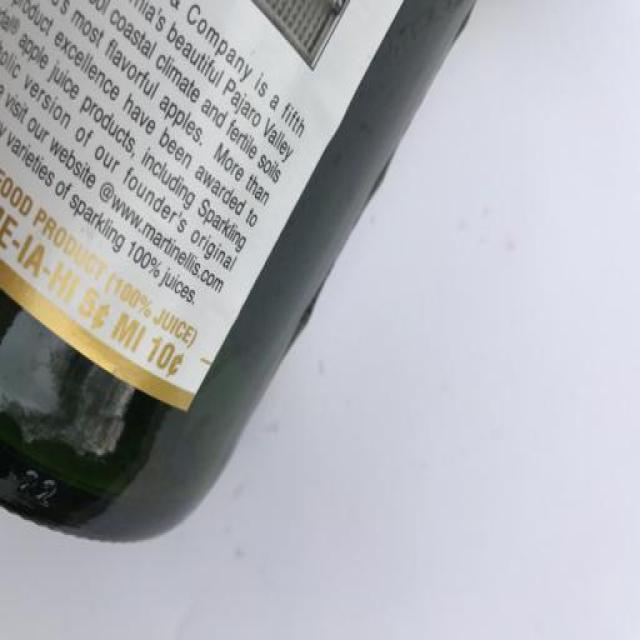glass: (0, 0, 483, 549)
